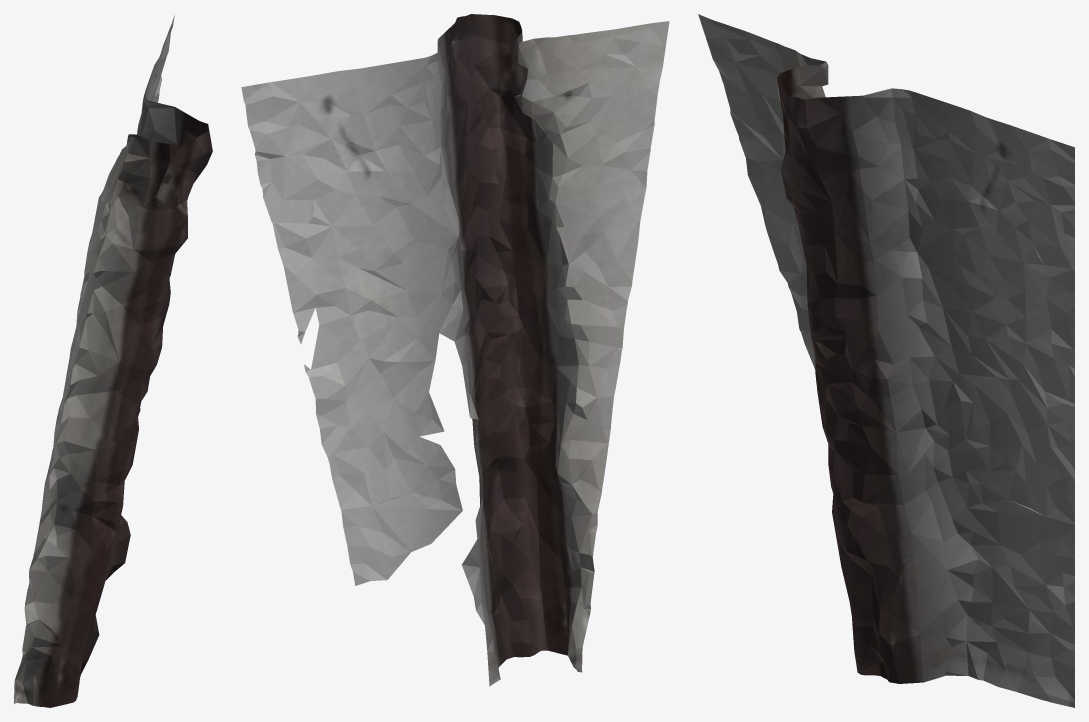
The picture shows the model from 3 angles, left to right: view 1: azimuth 30°, elevation 25°; view 2: azimuth 150°, elevation 25°; view 3: azimuth 270°, elevation 25°; orthographic projection. The views are drawn at different scales.
Bounding box in the file's own units: 0.3783 × 0.8373 × 0.4517.
2 materials, 2 textured.
